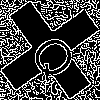Q: (25, 25, 87, 86)
